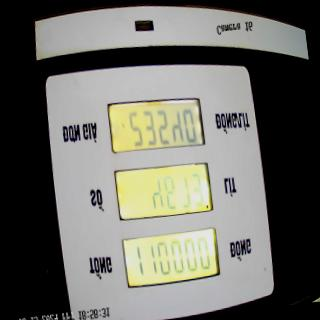screen: (104, 90, 224, 293)
